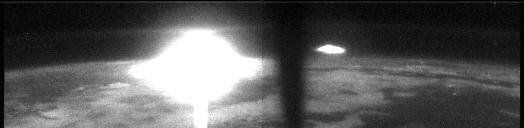negative: (182, 28, 216, 36)
